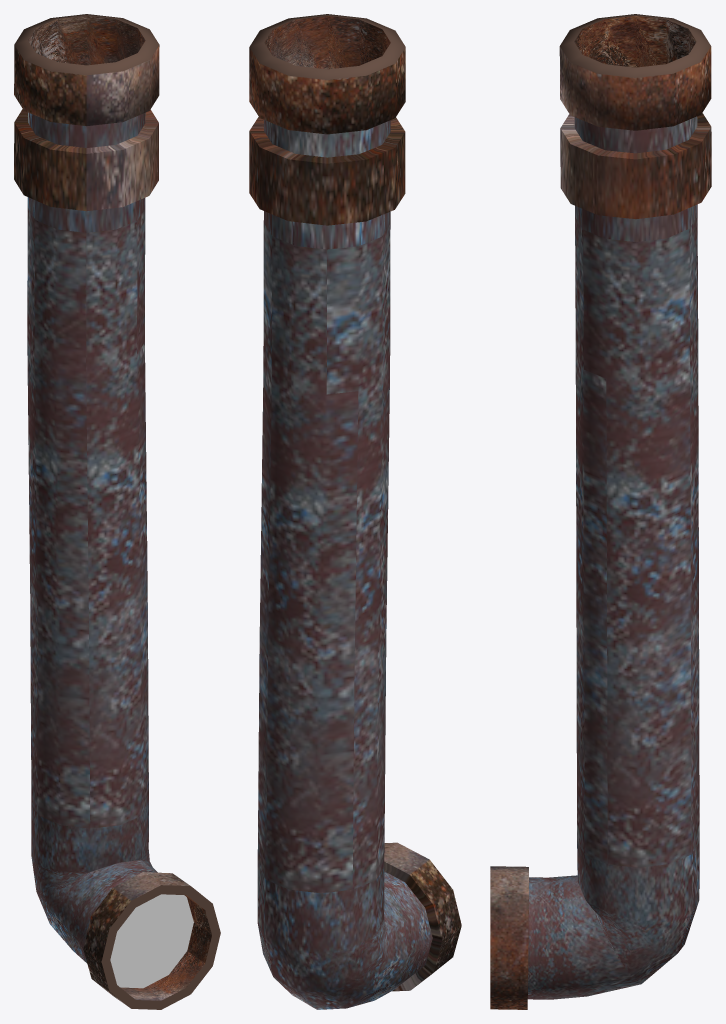
The model's file is TPM 2_FBX.fbx.
The picture shows the model from 3 angles, left to right: view 1: azimuth 30°, elevation 25°; view 2: azimuth 150°, elevation 25°; view 3: azimuth 270°, elevation 25°; orthographic projection. The views are drawn at different scales.
Visible parts, largest first — view 1: Tuberíia movil 2; view 2: Tuberíia movil 2; view 3: Tuberíia movil 2.
Part boxes in pixels (x1,y1,x2,y2): Tuberíia movil 2: (14,14,220,1009); Tuberíia movil 2: (249,14,461,1009); Tuberíia movil 2: (490,14,711,1009).
Bounding box in the file's own units: 250 × 1727 × 361.
